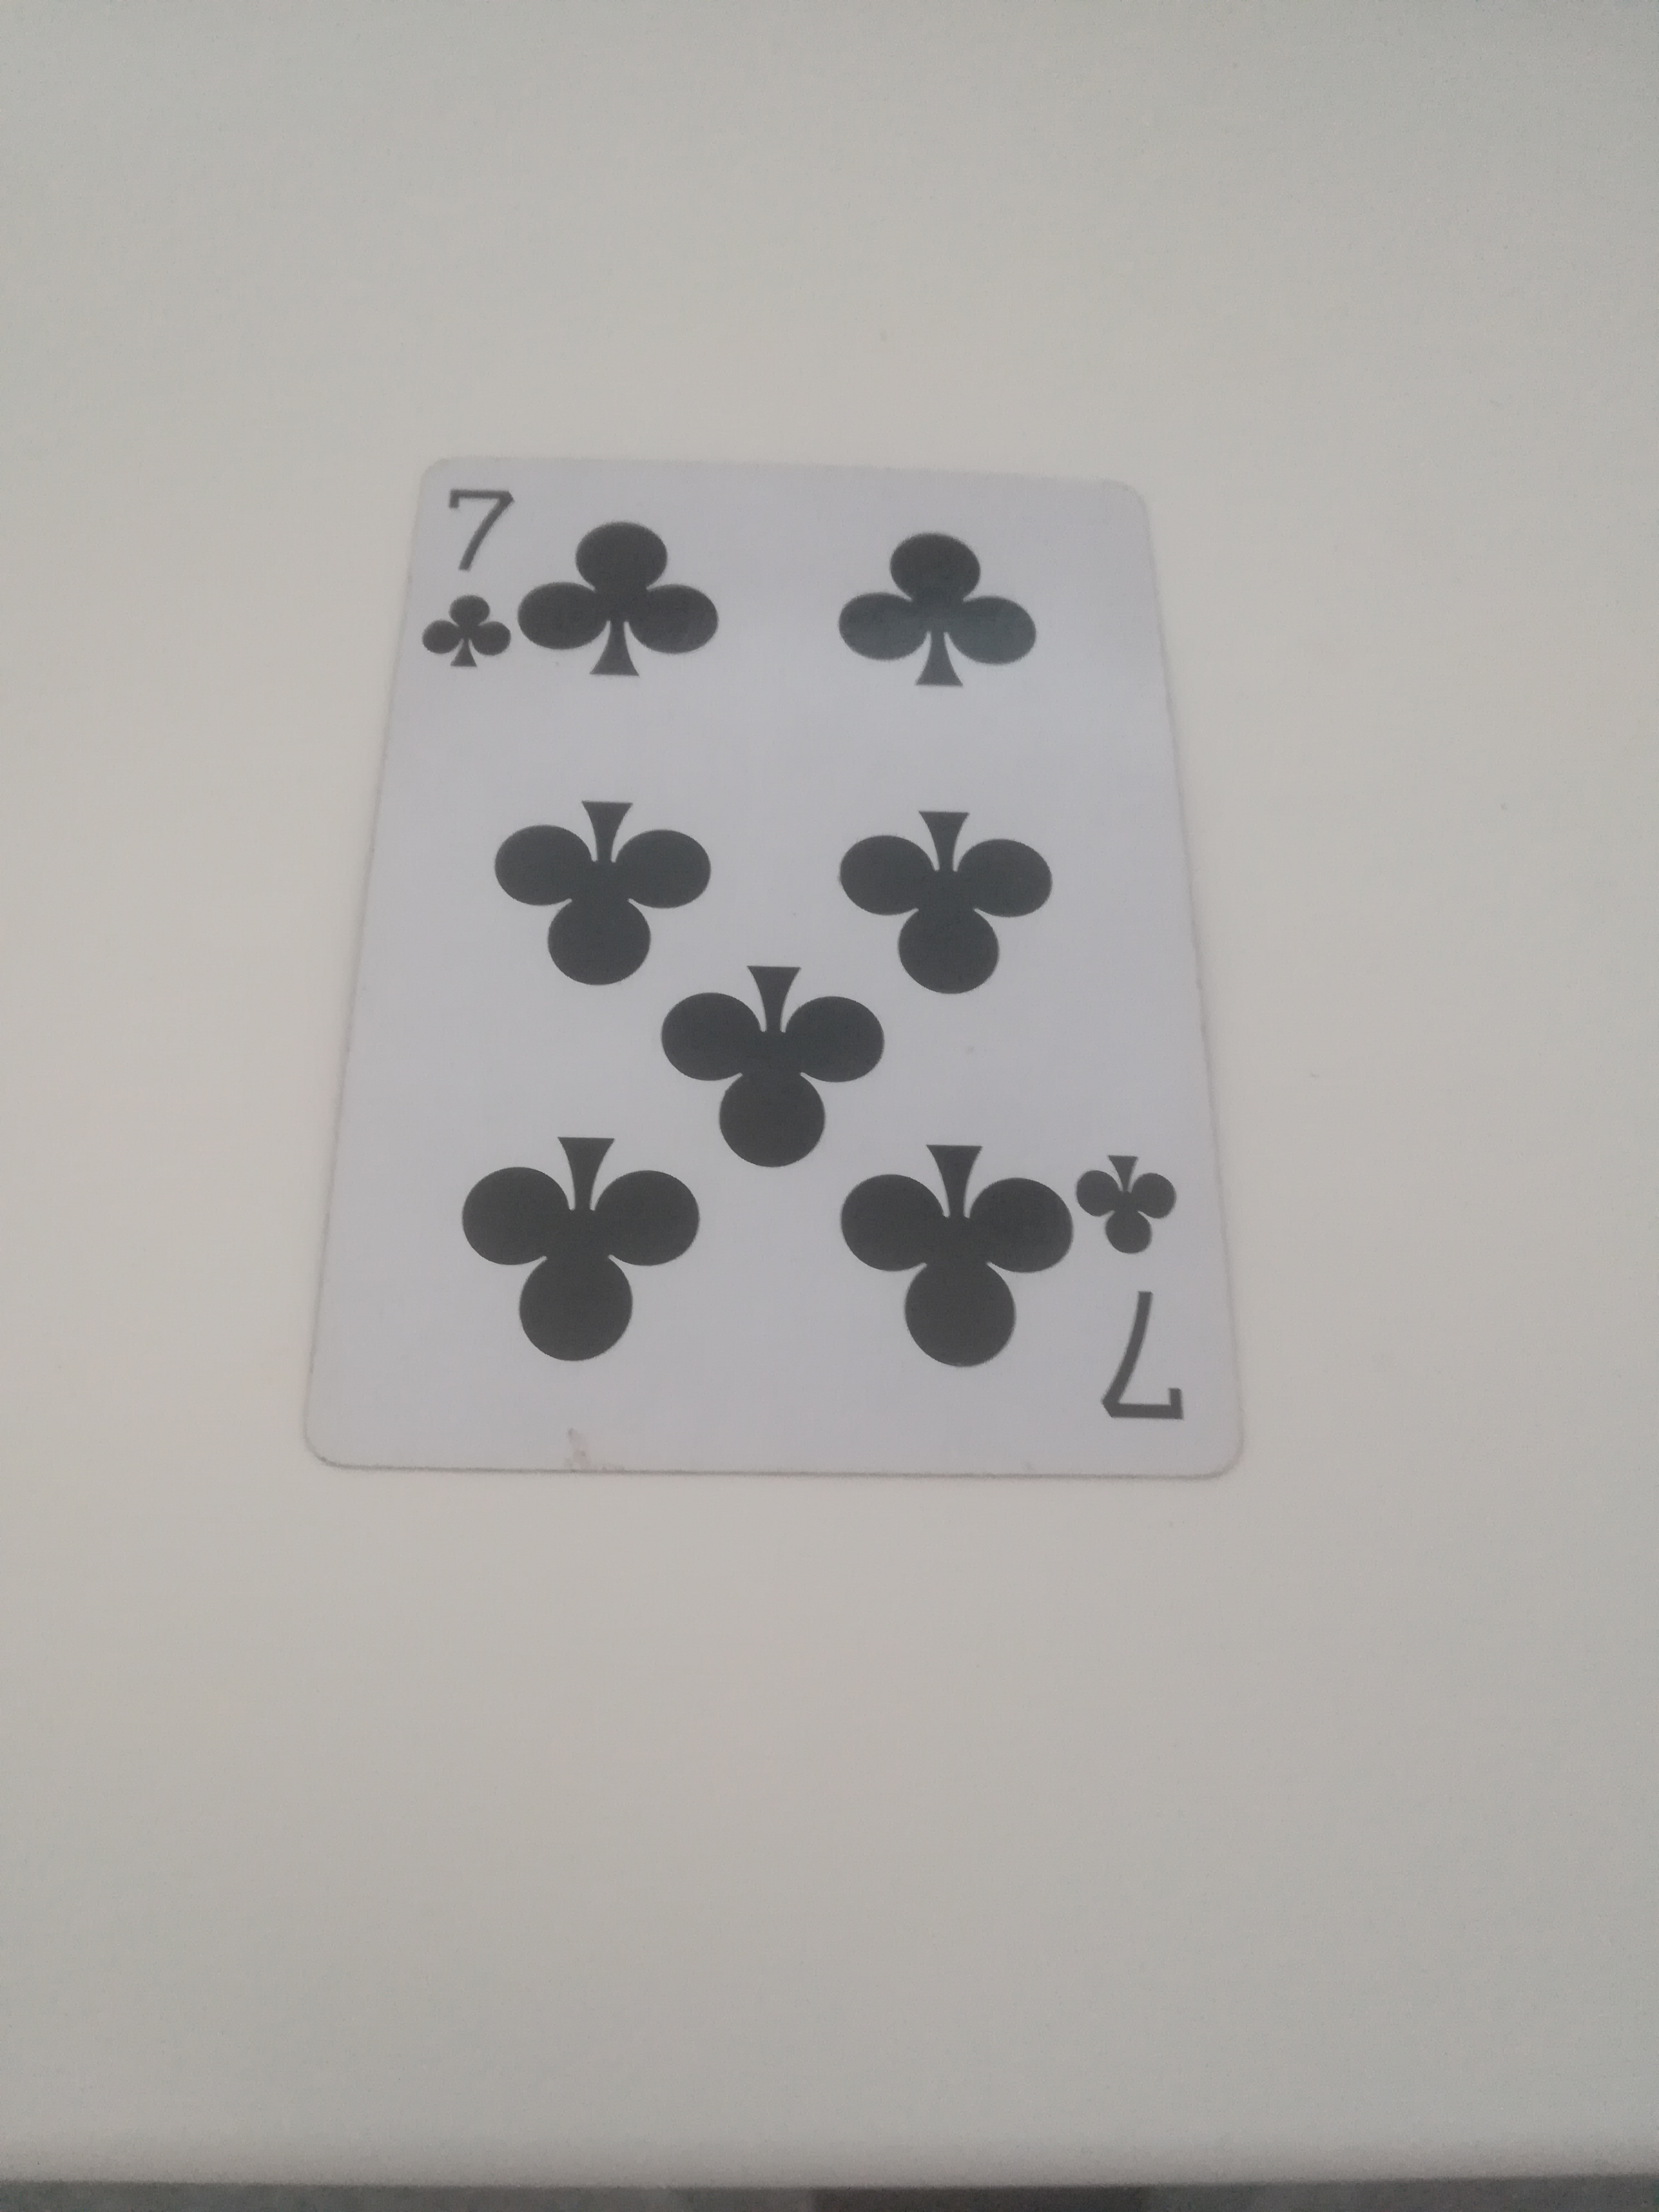7C: (289, 434, 1265, 1493)
